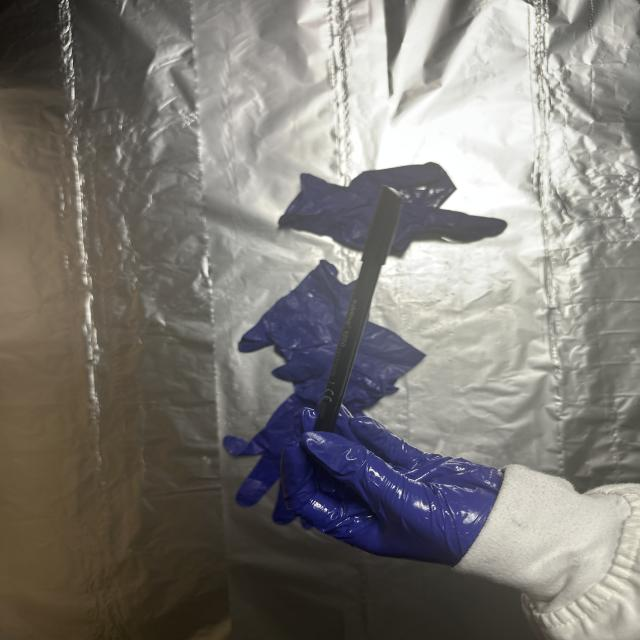gloves_contaminated: (281, 408, 503, 566)
